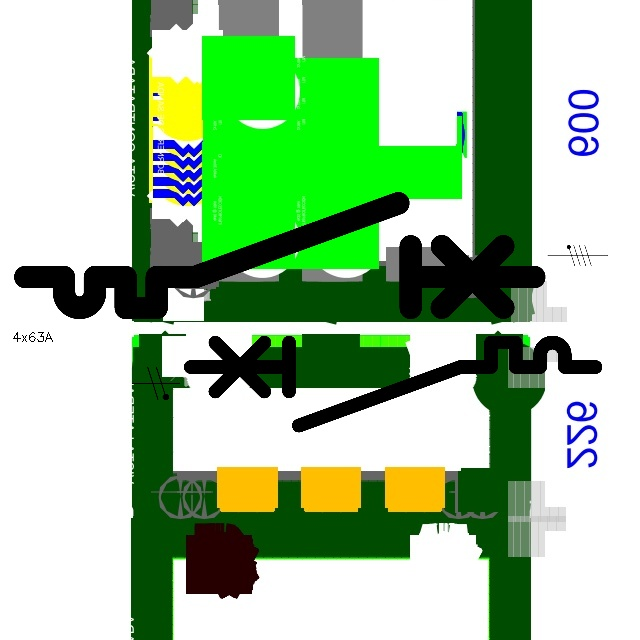interruptor_termomagnetico: (12, 190, 547, 321), (180, 332, 605, 436)
